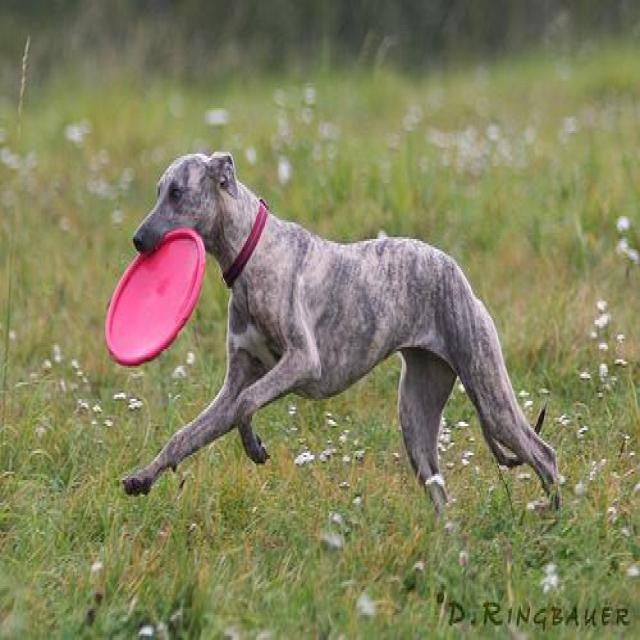happy: (107, 148, 604, 568)
